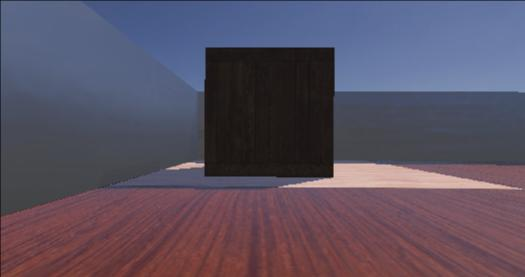WoodenBox: (189, 39, 344, 190)
